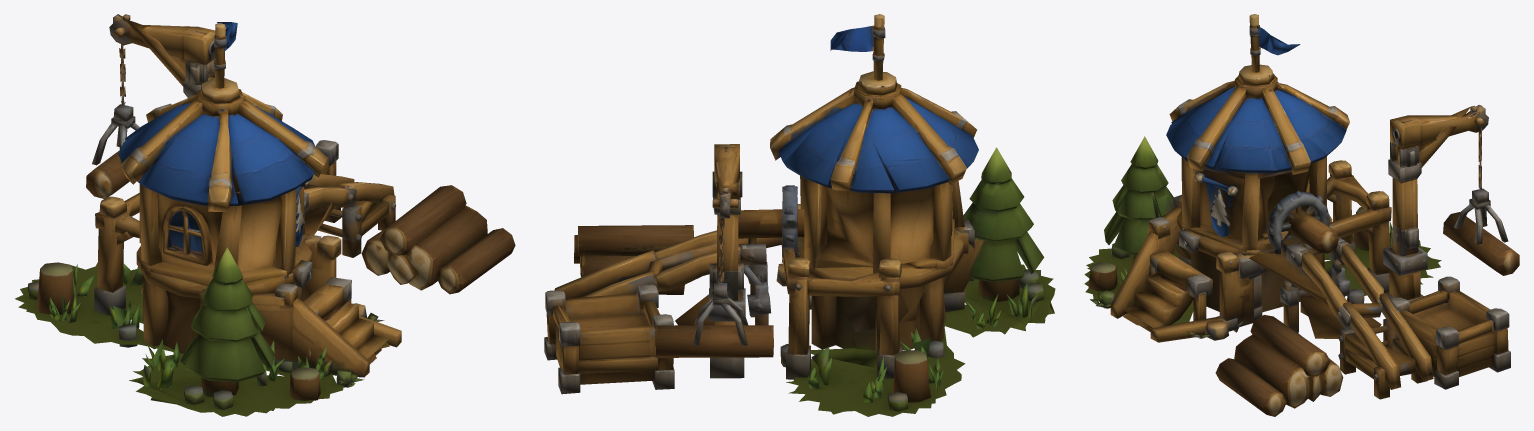
The model's file is tripo_convert_5d3898be-0e7b-49d4-a993-0153f912543d.fbx.
3 views of the same model, side by side, from view 1: azimuth 30°, elevation 25°; view 2: azimuth 150°, elevation 25°; view 3: azimuth 270°, elevation 25° (orthographic). The views are drawn at different scales.
Parts seen in each view (by area): view 1: tripo_node_5d3898be; view 2: tripo_node_5d3898be; view 3: tripo_node_5d3898be.
Part boxes in pixels (box(x1,y1,x2,y2)): tripo_node_5d3898be: box(15, 14, 515, 416); tripo_node_5d3898be: box(544, 14, 1055, 416); tripo_node_5d3898be: box(1084, 14, 1519, 416).
Size of the model in its own units: 0.998 by 0.7051 by 0.998.
1 material, 1 textured.
